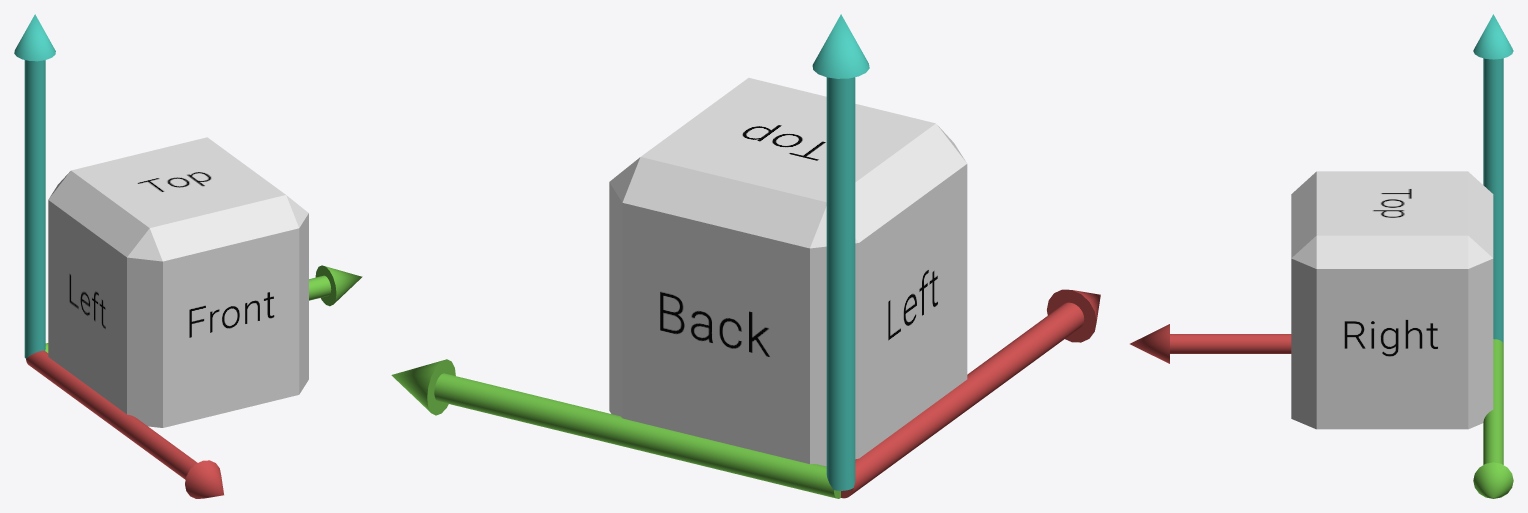
Rendered from orientation_cube_v01.glb.
3 views of the same model, side by side, from view 1: azimuth 30°, elevation 25°; view 2: azimuth 150°, elevation 25°; view 3: azimuth 270°, elevation 25° (orthographic). The views are drawn at different scales.
Parts seen in each view (by area): view 1: Cube.006, Cube.011, Cube.001, Cylinder, Cube.008, Cube.005, Cylinder.001, Cube.010, Cube.007, Cone.001, Cone, Cone.002 (+2 smaller); view 2: Cube.015, Cube.011, Cube.001, Cylinder, Cylinder.002, Cube.014, Cylinder.001, Cube.010, Cube.017, Cube.013, Cone, Cone.002 (+1 smaller); view 3: Cube.003, Cube.001, Cube.002, Cylinder, Cube.007, Cube.013, Cylinder.001, Cylinder.002, Cube.005, Cube.014, Cone.002, Cone (+3 smaller).
Part boxes in pixels (x1,y1,x2,y2): Cube.006: [163, 228, 299, 427]; Cube.011: [48, 200, 126, 414]; Cube.001: [71, 137, 285, 227]; Cylinder: [24, 60, 45, 358]; Cube.008: [127, 257, 162, 427]; Cube.005: [150, 195, 298, 261]; Cylinder.001: [26, 350, 197, 479]; Cube.010: [48, 171, 149, 256]; Cube.007: [299, 213, 308, 393]; Cone.001: [185, 460, 223, 498]; Cone: [14, 14, 55, 61]; Cone.002: [315, 265, 362, 306]; Cube.015: [622, 203, 809, 463]; Cube.011: [859, 164, 967, 458]; Cube.001: [641, 78, 935, 202]; Cylinder: [826, 77, 855, 490]; Cylinder.002: [434, 373, 840, 498]; Cube.014: [622, 157, 826, 248]; Cylinder.001: [841, 302, 1084, 498]; Cube.010: [855, 124, 966, 242]; Cube.017: [810, 243, 858, 466]; Cube.013: [609, 182, 622, 417]; Cone: [812, 14, 869, 78]; Cone.002: [391, 359, 455, 415]; Cube.003: [1316, 269, 1468, 429]; Cube.001: [1316, 171, 1468, 235]; Cube.002: [1316, 235, 1468, 268]; Cylinder: [1483, 58, 1503, 343]; Cube.007: [1291, 258, 1316, 429]; Cube.013: [1468, 259, 1493, 429]; Cylinder.001: [1170, 334, 1291, 353]; Cylinder.002: [1483, 339, 1503, 464]; Cube.005: [1291, 171, 1316, 257]; Cube.014: [1468, 172, 1493, 257]; Cone.002: [1473, 462, 1513, 498]; Cone: [1473, 14, 1513, 59].
Size of the model in its own units: 0.1901 by 0.1901 by 0.1901.
1 material, 1 textured.
